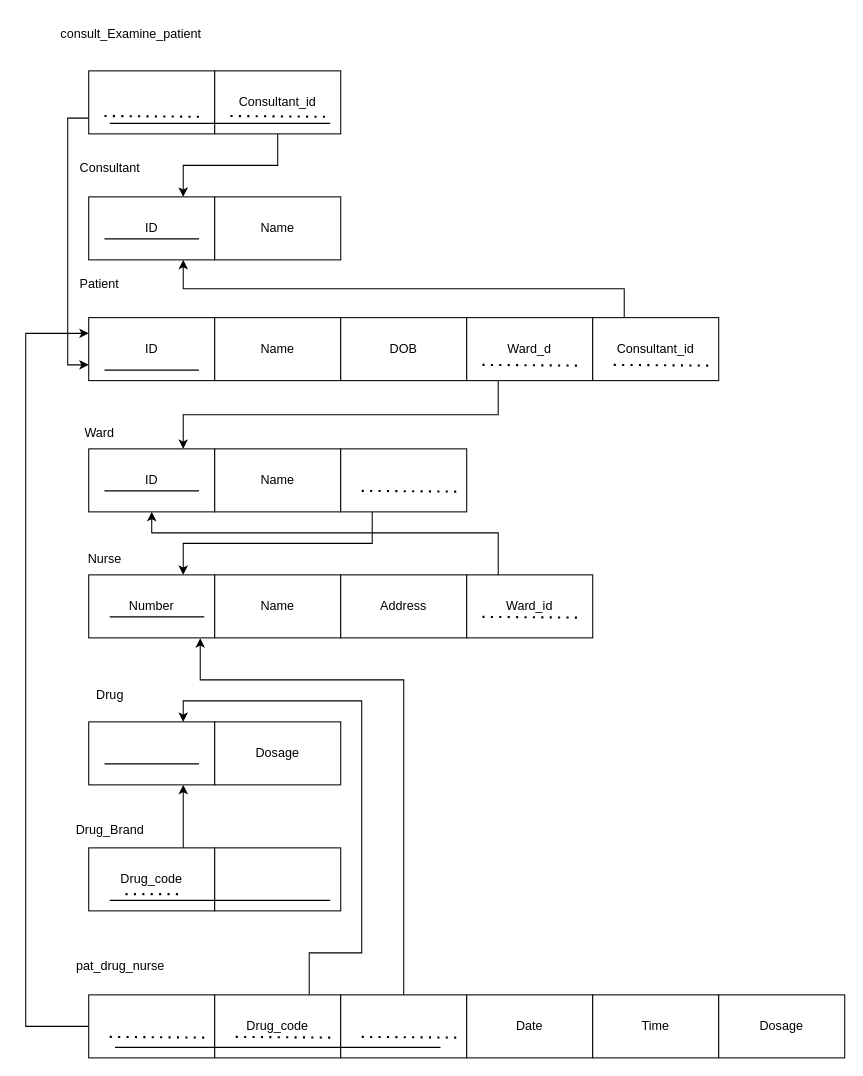
The diagram is 863 pixels wide and 1076 high, and some of its shapes have lost their labels. Each missing label, with the box of its shape:
Brand: (214, 847, 341, 911)
Code: (88, 721, 215, 785)
Nures_Number: (340, 448, 467, 512)
Nurse_Number: (340, 994, 467, 1058)
patient_d: (88, 70, 215, 134)
patient_id: (88, 994, 215, 1058)
